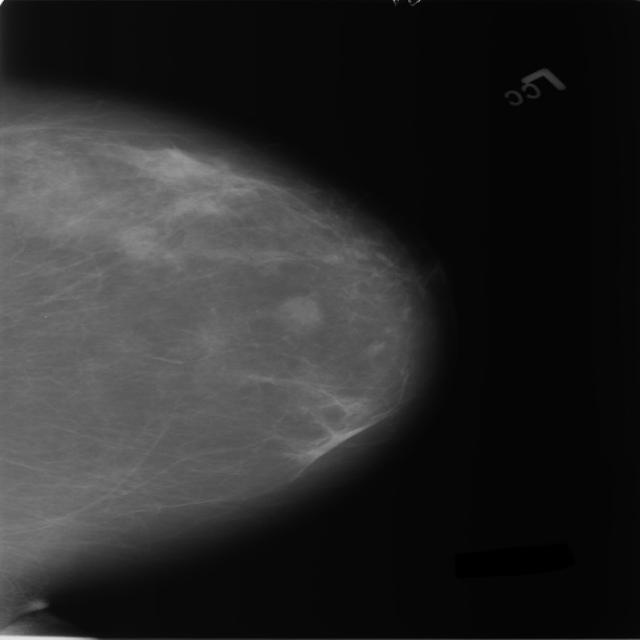tumour: (278, 294, 321, 324)
